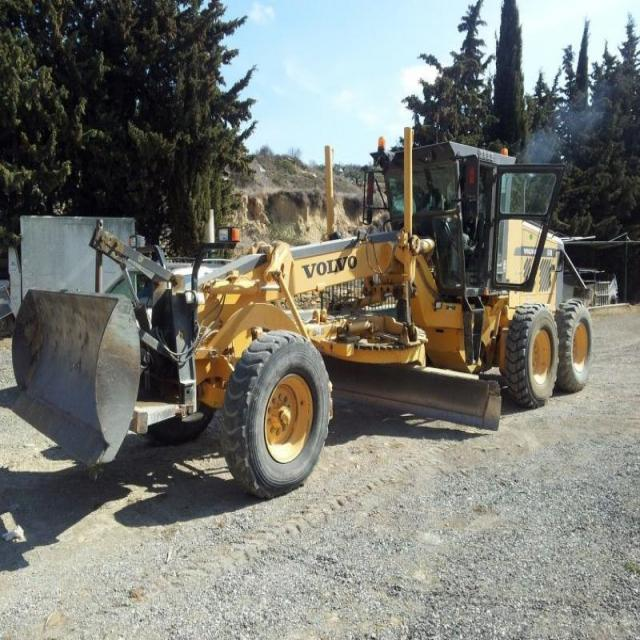Grader: (37, 122, 601, 501)
